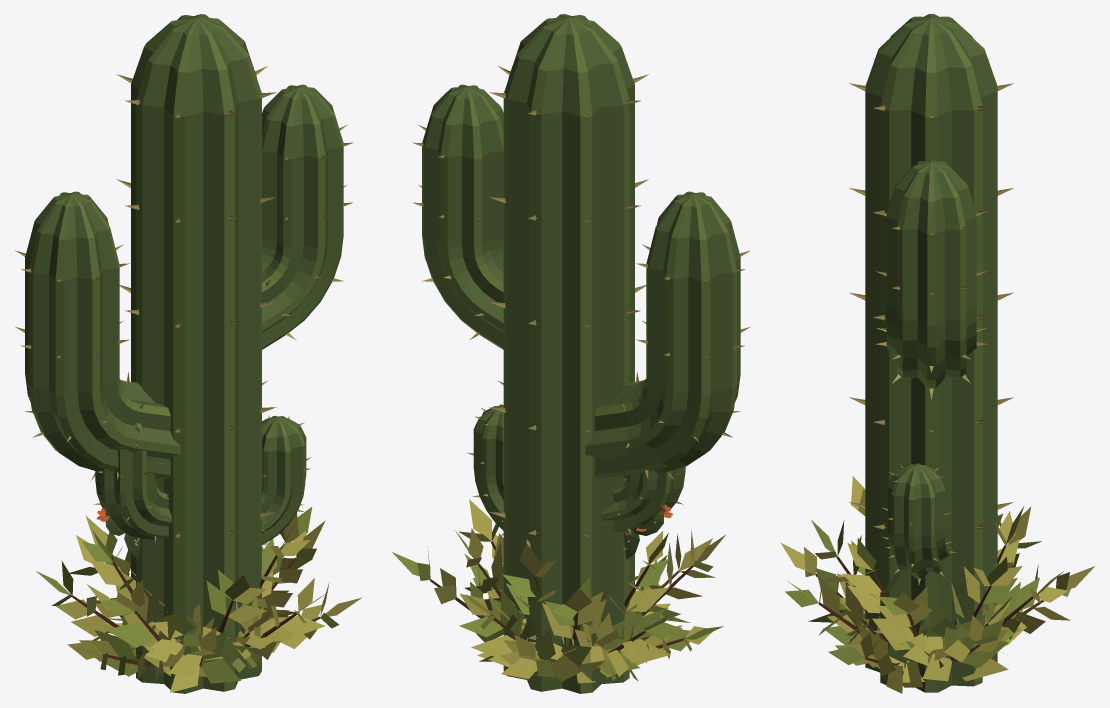
Rendered from floras.glb.
3 views of the same model, side by side, from view 1: azimuth 30°, elevation 25°; view 2: azimuth 150°, elevation 25°; view 3: azimuth 270°, elevation 25° (orthographic).
Visible parts, largest first — view 1: Saguaro, DesertBush, SaguaroS, PricklyPear; view 2: Saguaro, DesertBush, SaguaroS, PricklyPear; view 3: Saguaro, DesertBush, SaguaroS.
Boxes of the visible parts, left/top/right/bottom form: Saguaro: left=15, top=14, right=353, bottom=693; DesertBush: left=36, top=507, right=361, bottom=692; SaguaroS: left=94, top=415, right=311, bottom=546; PricklyPear: left=96, top=507, right=140, bottom=558; Saguaro: left=412, top=14, right=750, bottom=693; DesertBush: left=392, top=499, right=725, bottom=683; SaguaroS: left=467, top=404, right=685, bottom=536; PricklyPear: left=495, top=492, right=672, bottom=559; Saguaro: left=849, top=14, right=1013, bottom=692; DesertBush: left=780, top=476, right=1094, bottom=693; SaguaroS: left=881, top=463, right=955, bottom=585.
Size of the model in its own units: 2.73 by 5.16 by 2.28.
